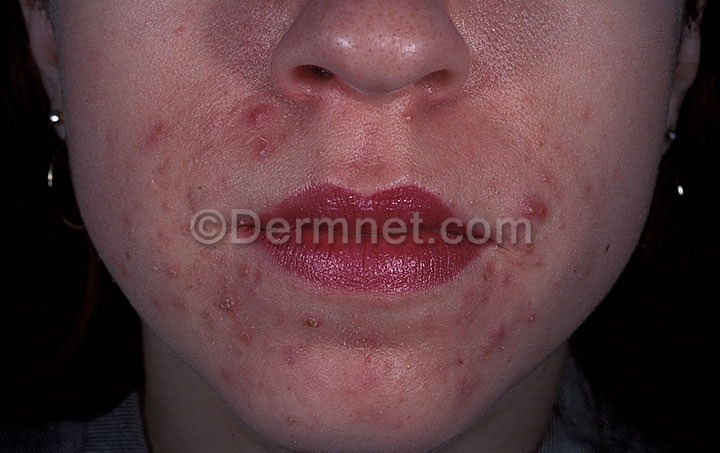Acne: (69, 98, 589, 418)
